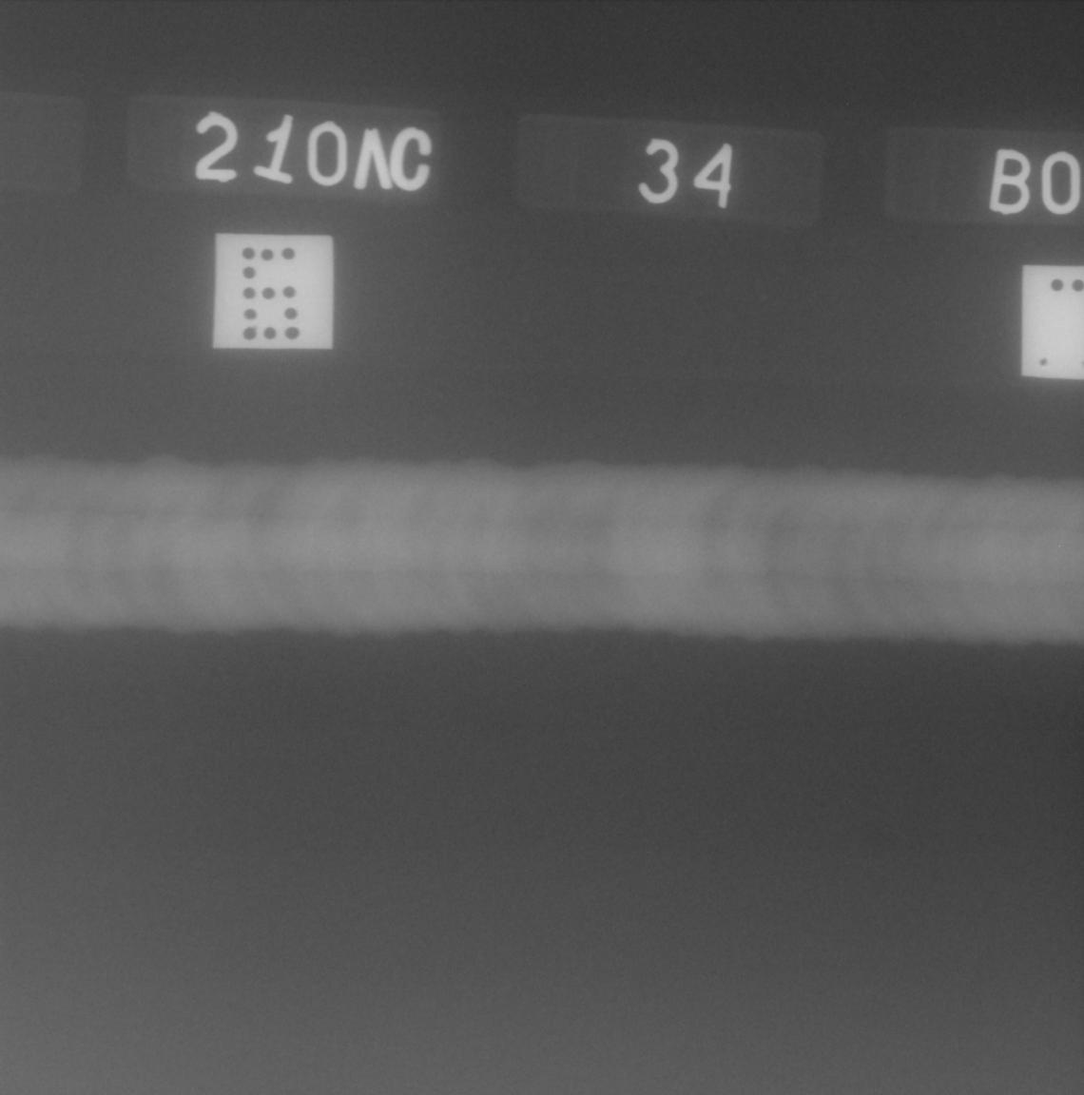Inclusion: (710, 517, 715, 527)
Pore/Porosity: (258, 513, 264, 519), (247, 513, 253, 517)
